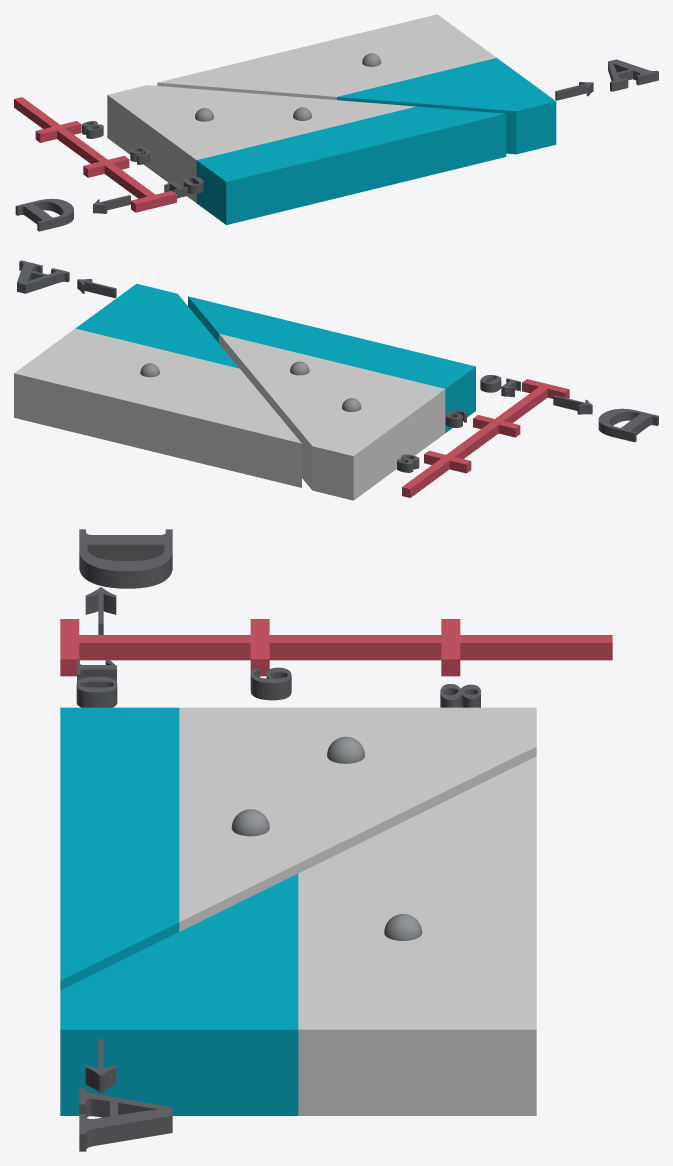
Rendered from tinker.glb.
3 views of the same model, one above another, from view 1: azimuth 30°, elevation 25°; view 2: azimuth 150°, elevation 25°; view 3: azimuth 270°, elevation 25° (orthographic). The views are drawn at different scales.
Parts seen in each view (by area): view 1: Mesh_Mesh_head_geo.001_lambert2SG.001; view 2: Mesh_Mesh_head_geo.001_lambert2SG.001; view 3: Mesh_Mesh_head_geo.001_lambert2SG.001.
Part boxes in pixels (x1,y1,x2,y2): Mesh_Mesh_head_geo.001_lambert2SG.001: [14, 14, 658, 231]; Mesh_Mesh_head_geo.001_lambert2SG.001: [14, 260, 658, 500]; Mesh_Mesh_head_geo.001_lambert2SG.001: [60, 529, 612, 1151].
Bounding box in the file's own units: 0.0751 × 0.006 × 0.029.
